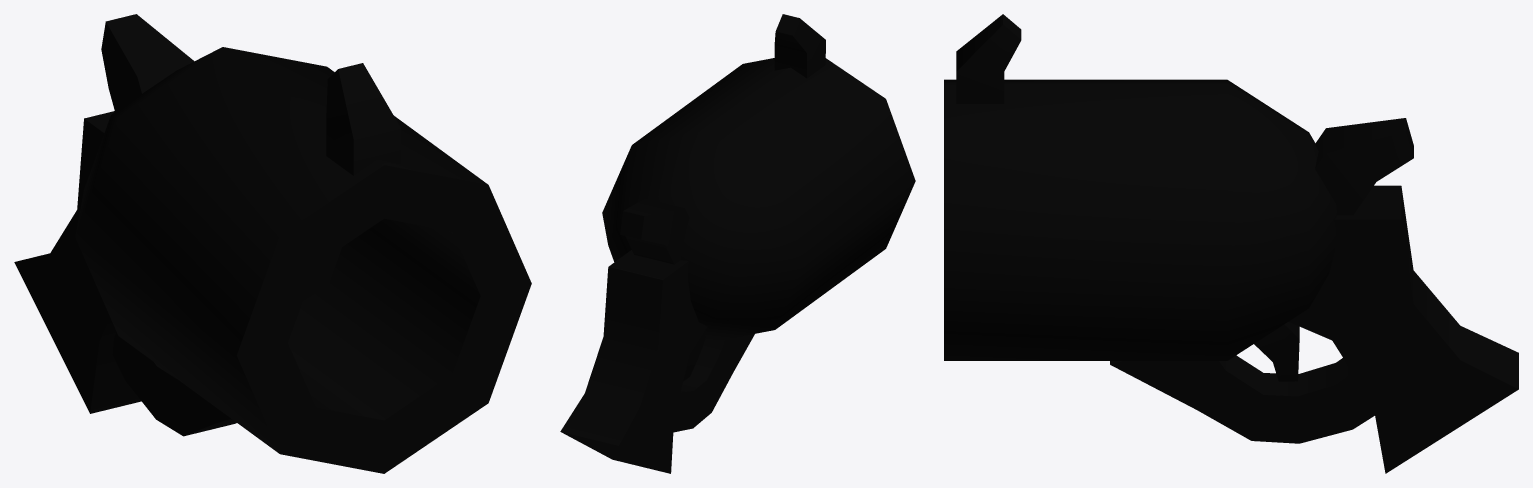
Rendered from Revolver.fbx.
3 views of the same model, side by side, from view 1: azimuth 30°, elevation 25°; view 2: azimuth 150°, elevation 25°; view 3: azimuth 270°, elevation 25° (orthographic). The views are drawn at different scales.
Parts seen in each view (by area): view 1: Revolver; view 2: Revolver; view 3: Revolver.
Part boxes in pixels (x1=…): Revolver: x1=14, y1=14, x2=531, y2=473; Revolver: x1=560, y1=14, x2=915, y2=473; Revolver: x1=944, y1=14, x2=1518, y2=473.
Bounding box in the file's own units: 88.49 × 142 × 170.
